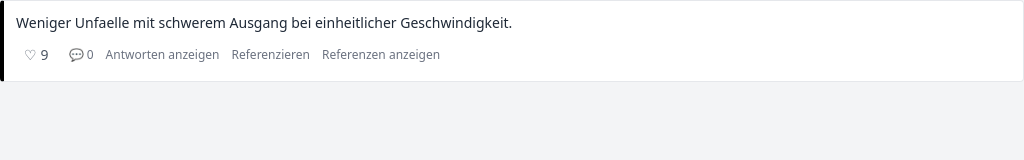
Test case: ArgumentNode - Referenzen anzeigen › shows a friendly empty state when the node has no referenzen
Click the button "Referenzen anzeigen" at coordinates (381, 55), box [322,47,440,63]
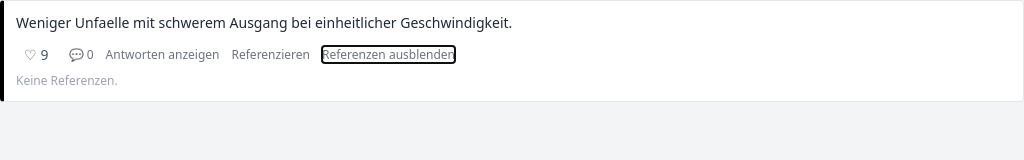
Expected: the text "Keine Referenzen." is shown, [16,72,118,89]
